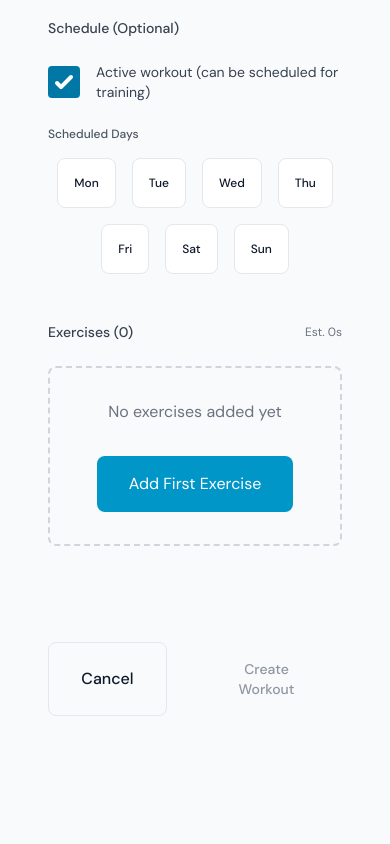
Test: CreateWorkoutPage - exercise catalog seeding › seeds exercises on fresh DB and lists them in the picker
(page scrolled)
Note: Open the exercise picker modal
Click the button "Add First Exercise" at (195, 484), box [97,456,293,512]
(page scrolled)
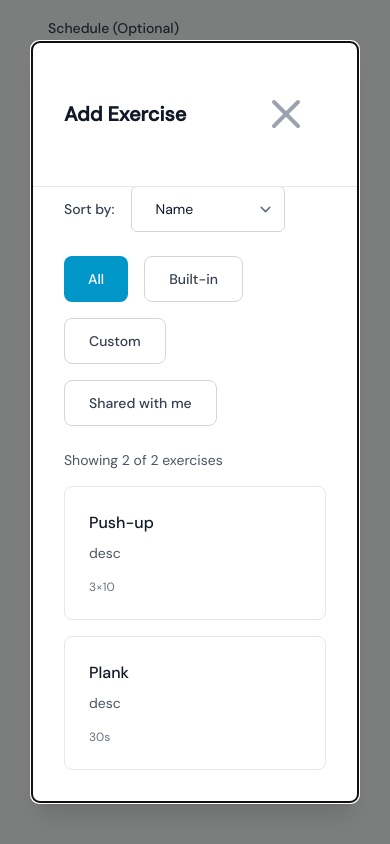
Result: the heading "Push-up" is shown at [89,512,154,533]
Result: the heading "Plank" is shown at [89,662,129,683]
